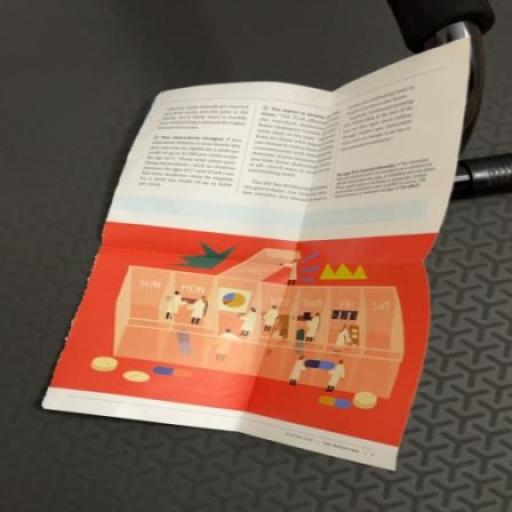paper: (21, 33, 512, 512)
